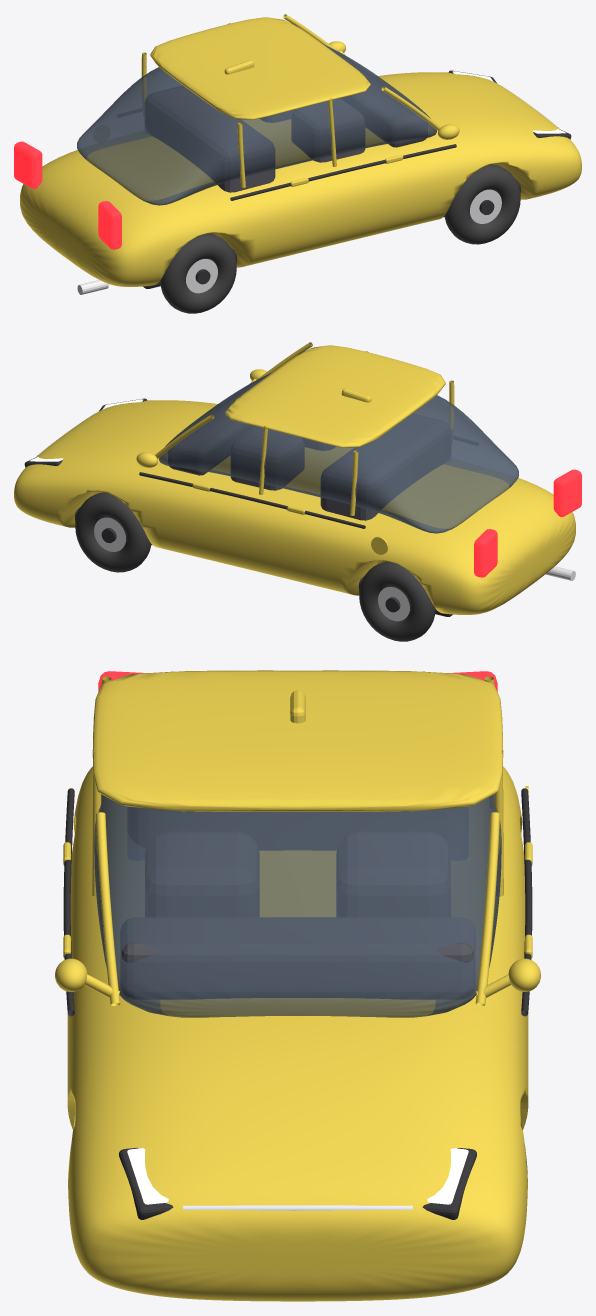
File: jp_car_yellow.glb
3 views of the same model, one above another, from view 1: azimuth 30°, elevation 25°; view 2: azimuth 150°, elevation 25°; view 3: azimuth 270°, elevation 25° (orthographic). The views are drawn at different scales.
Parts seen in each view (by area): view 1: LowerBody, Greenhouse, Roof, SeatR, Tire3, Tire1, SeatF_-0.35, Dash, Tail_L, Tail_R, BeltTrim.001, Rim3 (+1 smaller); view 2: LowerBody, Greenhouse, Roof, SeatR, Tire2, Tire0, SeatF_0.35, Dash, Tail_R, Tail_L, BeltTrim, Rim2 (+1 smaller); view 3: LowerBody, Greenhouse, Roof, Dash, SeatF_0.35, SeatF_-0.35, SeatR, APillar, APillar.001, GrilleBar, BeltTrim, BeltTrim.001 (+6 smaller).
Part boxes in pixels (left/top/right/bottom): LowerBody: left=20, top=72, right=581, bottom=286; Greenhouse: left=77, top=44, right=436, bottom=205; Roof: left=150, top=17, right=370, bottom=119; SeatR: left=145, top=85, right=275, bottom=192; Tire3: left=160, top=233, right=236, bottom=313; Tire1: left=444, top=164, right=520, bottom=244; SeatF_-0.35: left=291, top=99, right=365, bottom=162; Dash: left=337, top=54, right=427, bottom=147; Tail_L: left=14, top=141, right=42, bottom=188; Tail_R: left=98, top=201, right=121, bottom=249; BeltTrim.001: left=230, top=144, right=456, bottom=200; Rim3: left=186, top=259, right=217, bottom=293; LowerBody: left=14, top=400, right=575, bottom=614; Greenhouse: left=159, top=372, right=518, bottom=533; Roof: left=225, top=345, right=445, bottom=447; SeatR: left=320, top=413, right=450, bottom=520; Tire2: left=359, top=561, right=435, bottom=641; Tire0: left=75, top=492, right=151, bottom=572; SeatF_0.35: left=230, top=427, right=304, bottom=490; Dash: left=168, top=382, right=258, bottom=475; Tail_R: left=553, top=469, right=581, bottom=516; Tail_L: left=474, top=529, right=497, bottom=577; BeltTrim: left=139, top=472, right=365, bottom=528; Rim2: left=378, top=587, right=409, bottom=621; LowerBody: left=67, top=766, right=528, bottom=1301; Greenhouse: left=94, top=794, right=501, bottom=1017; Roof: left=92, top=670, right=503, bottom=811; Dash: left=120, top=917, right=475, bottom=999; SeatF_0.35: left=336, top=832, right=450, bottom=916; SeatF_-0.35: left=145, top=832, right=259, bottom=916; SeatR: left=127, top=807, right=468, bottom=850; APillar: left=475, top=812, right=499, bottom=1006; APillar.001: left=96, top=812, right=120, bottom=1006; GrilleBar: left=183, top=1205, right=412, bottom=1210; BeltTrim: left=521, top=788, right=532, bottom=1016; BeltTrim.001: left=63, top=788, right=74, bottom=1016.
Size of the model in its own units: 4.09 by 1.55 by 1.78.
